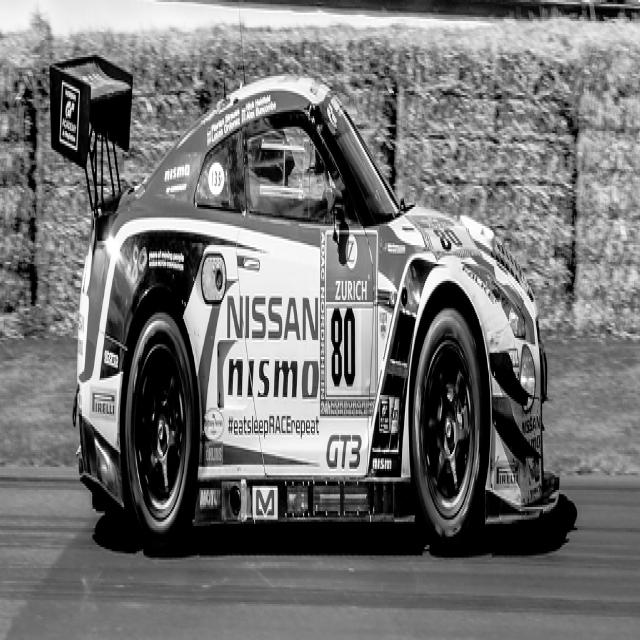car: (49, 47, 547, 547)
